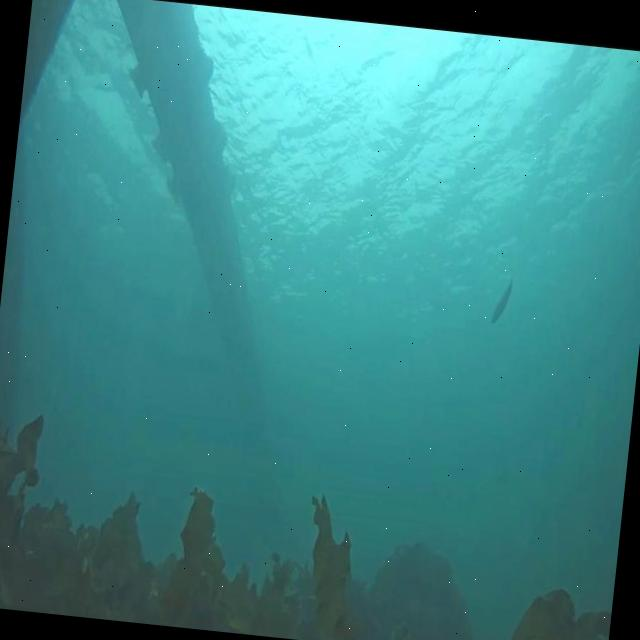fish: (488, 272, 514, 328)
